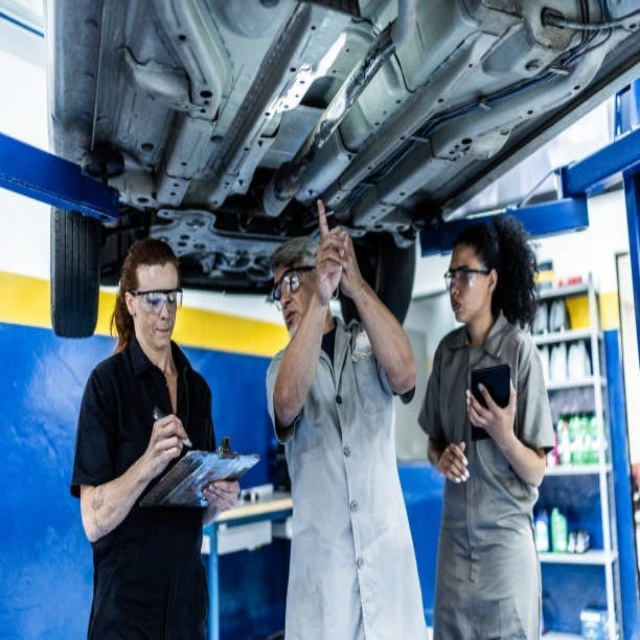Gafas: (267, 266, 317, 306), (129, 288, 183, 313), (443, 267, 491, 289)
Sin_guantes: (314, 199, 350, 306), (468, 376, 517, 447), (147, 408, 188, 474), (202, 477, 241, 516), (438, 439, 470, 484)
Sin_mascara: (449, 294, 473, 322), (280, 302, 300, 330), (154, 322, 174, 344)
